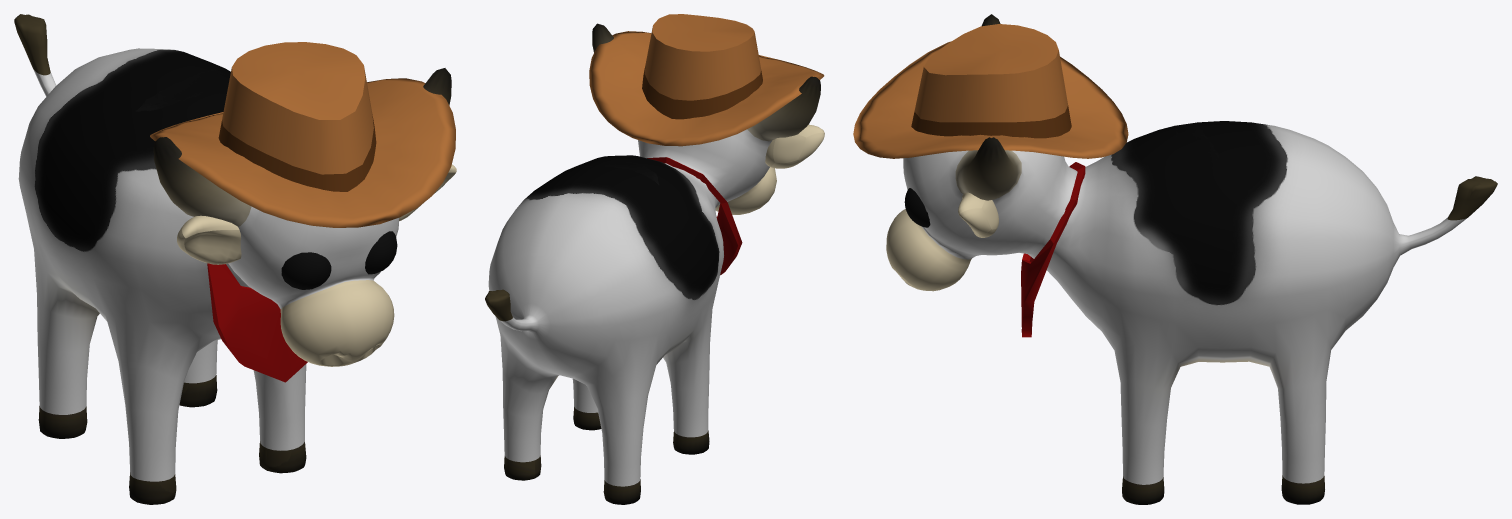
The model's file is Cow - cowboy.fbx.
3 renders of one model, left to right at view 1: azimuth 30°, elevation 25°; view 2: azimuth 150°, elevation 25°; view 3: azimuth 270°, elevation 25°, orthographic. The views are drawn at different scales.
Visible parts, largest first — view 1: cow, pCylinder1, pCylinder2, pCube2, ear_right, eyeball_right, eyeball_left; view 2: cow, pCylinder1, pCylinder2, ear_right, pCube2, pTorus1; view 3: cow, pCylinder2, pCylinder1, pCube2, ear_left, pTorus1.
Part boxes in pixels (bbox=[...]): cow: bbox=[14, 14, 451, 504]; pCylinder1: bbox=[150, 78, 455, 227]; pCylinder2: bbox=[218, 42, 376, 191]; pCube2: bbox=[207, 263, 307, 382]; ear_right: bbox=[177, 215, 241, 264]; eyeball_right: bbox=[281, 252, 331, 289]; eyeball_left: bbox=[365, 231, 397, 274]; cow: bbox=[485, 23, 820, 504]; pCylinder1: bbox=[589, 31, 824, 146]; pCylinder2: bbox=[642, 14, 762, 119]; ear_right: bbox=[765, 124, 824, 168]; pCube2: bbox=[717, 202, 742, 275]; pTorus1: bbox=[647, 157, 726, 219]; cow: bbox=[886, 14, 1497, 504]; pCylinder2: bbox=[911, 24, 1071, 138]; pCylinder1: bbox=[853, 41, 1128, 158]; pCube2: bbox=[1021, 243, 1056, 337]; ear_left: bbox=[958, 192, 998, 237]; pTorus1: bbox=[1022, 162, 1085, 263].
Size of the model in its own units: 2.35 by 3.6 by 4.99.
